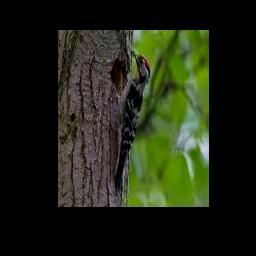Woodpecker: (111, 49, 150, 194)
